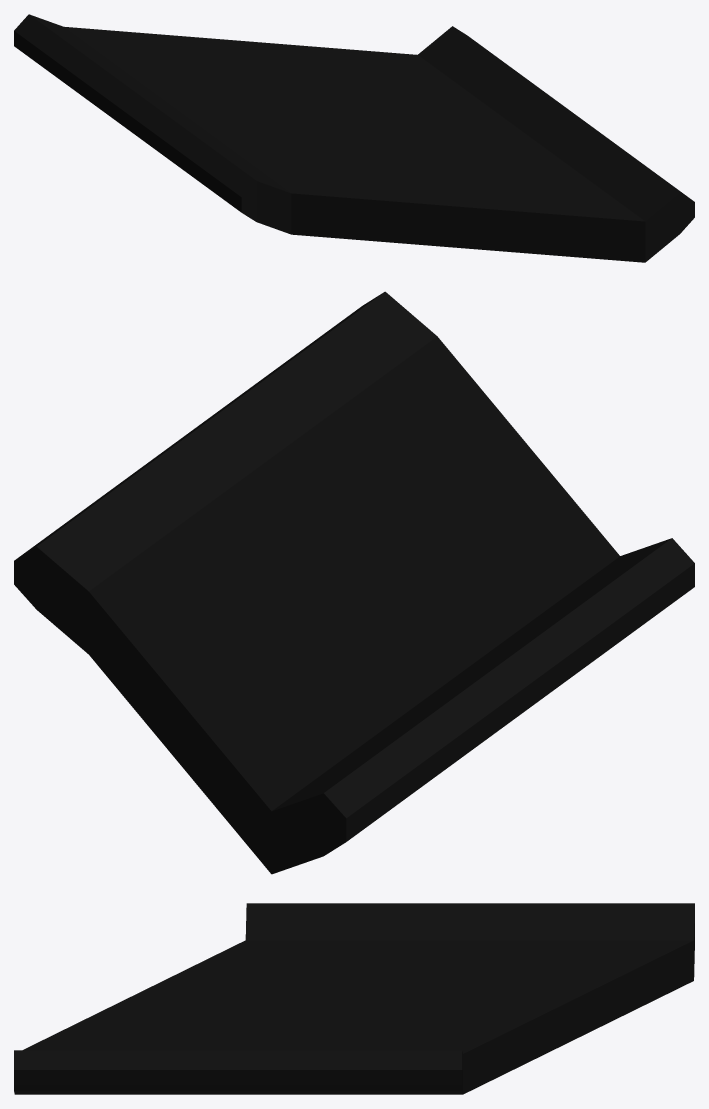
Rendered from platform 6 base v2.obj.
The picture shows the model from 3 angles, top to bottom: view 1: azimuth 30°, elevation 25°; view 2: azimuth 150°, elevation 25°; view 3: azimuth 270°, elevation 25°; orthographic projection. The views are drawn at different scales.
Parts seen in each view (by area): view 1: base; view 2: base; view 3: base.
Part boxes in pixels (box(x1,y1,x2,y2)): base: box(14, 14, 694, 262); base: box(14, 291, 694, 874); base: box(14, 903, 694, 1094).
Bounding box in the file's own units: 4.25 × 0.75 × 7.59.
